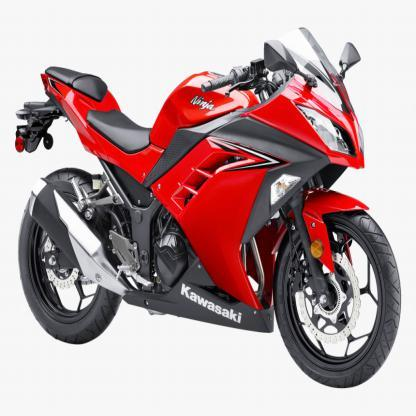Motorcycle: (11, 19, 404, 394)
